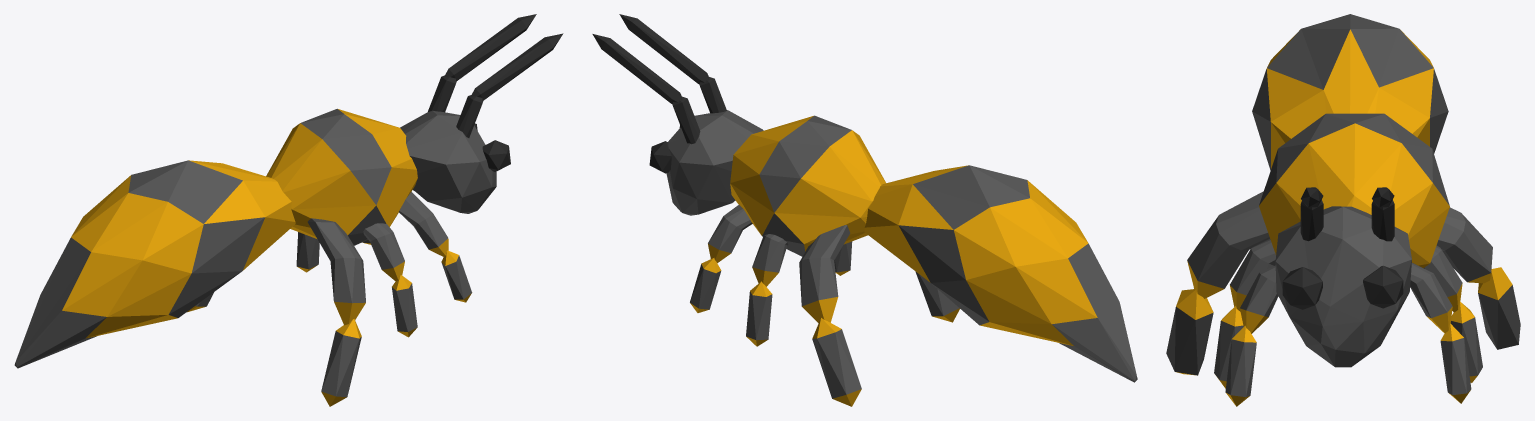
File: beeC 1.fbx
3 renders of one model, left to right at view 1: azimuth 30°, elevation 25°; view 2: azimuth 150°, elevation 25°; view 3: azimuth 270°, elevation 25°, orthographic. The views are drawn at different scales.
Visible parts, largest first — view 1: Icosphere.171; view 2: Icosphere.171; view 3: Icosphere.171.
Part boxes in pixels (left/top/right/bottom): Icosphere.171: left=14, top=14, right=563, bottom=406; Icosphere.171: left=592, top=14, right=1137, bottom=406; Icosphere.171: left=1166, top=14, right=1520, bottom=406.
Bounding box in the file's own units: 14461 × 7058 × 6291.
